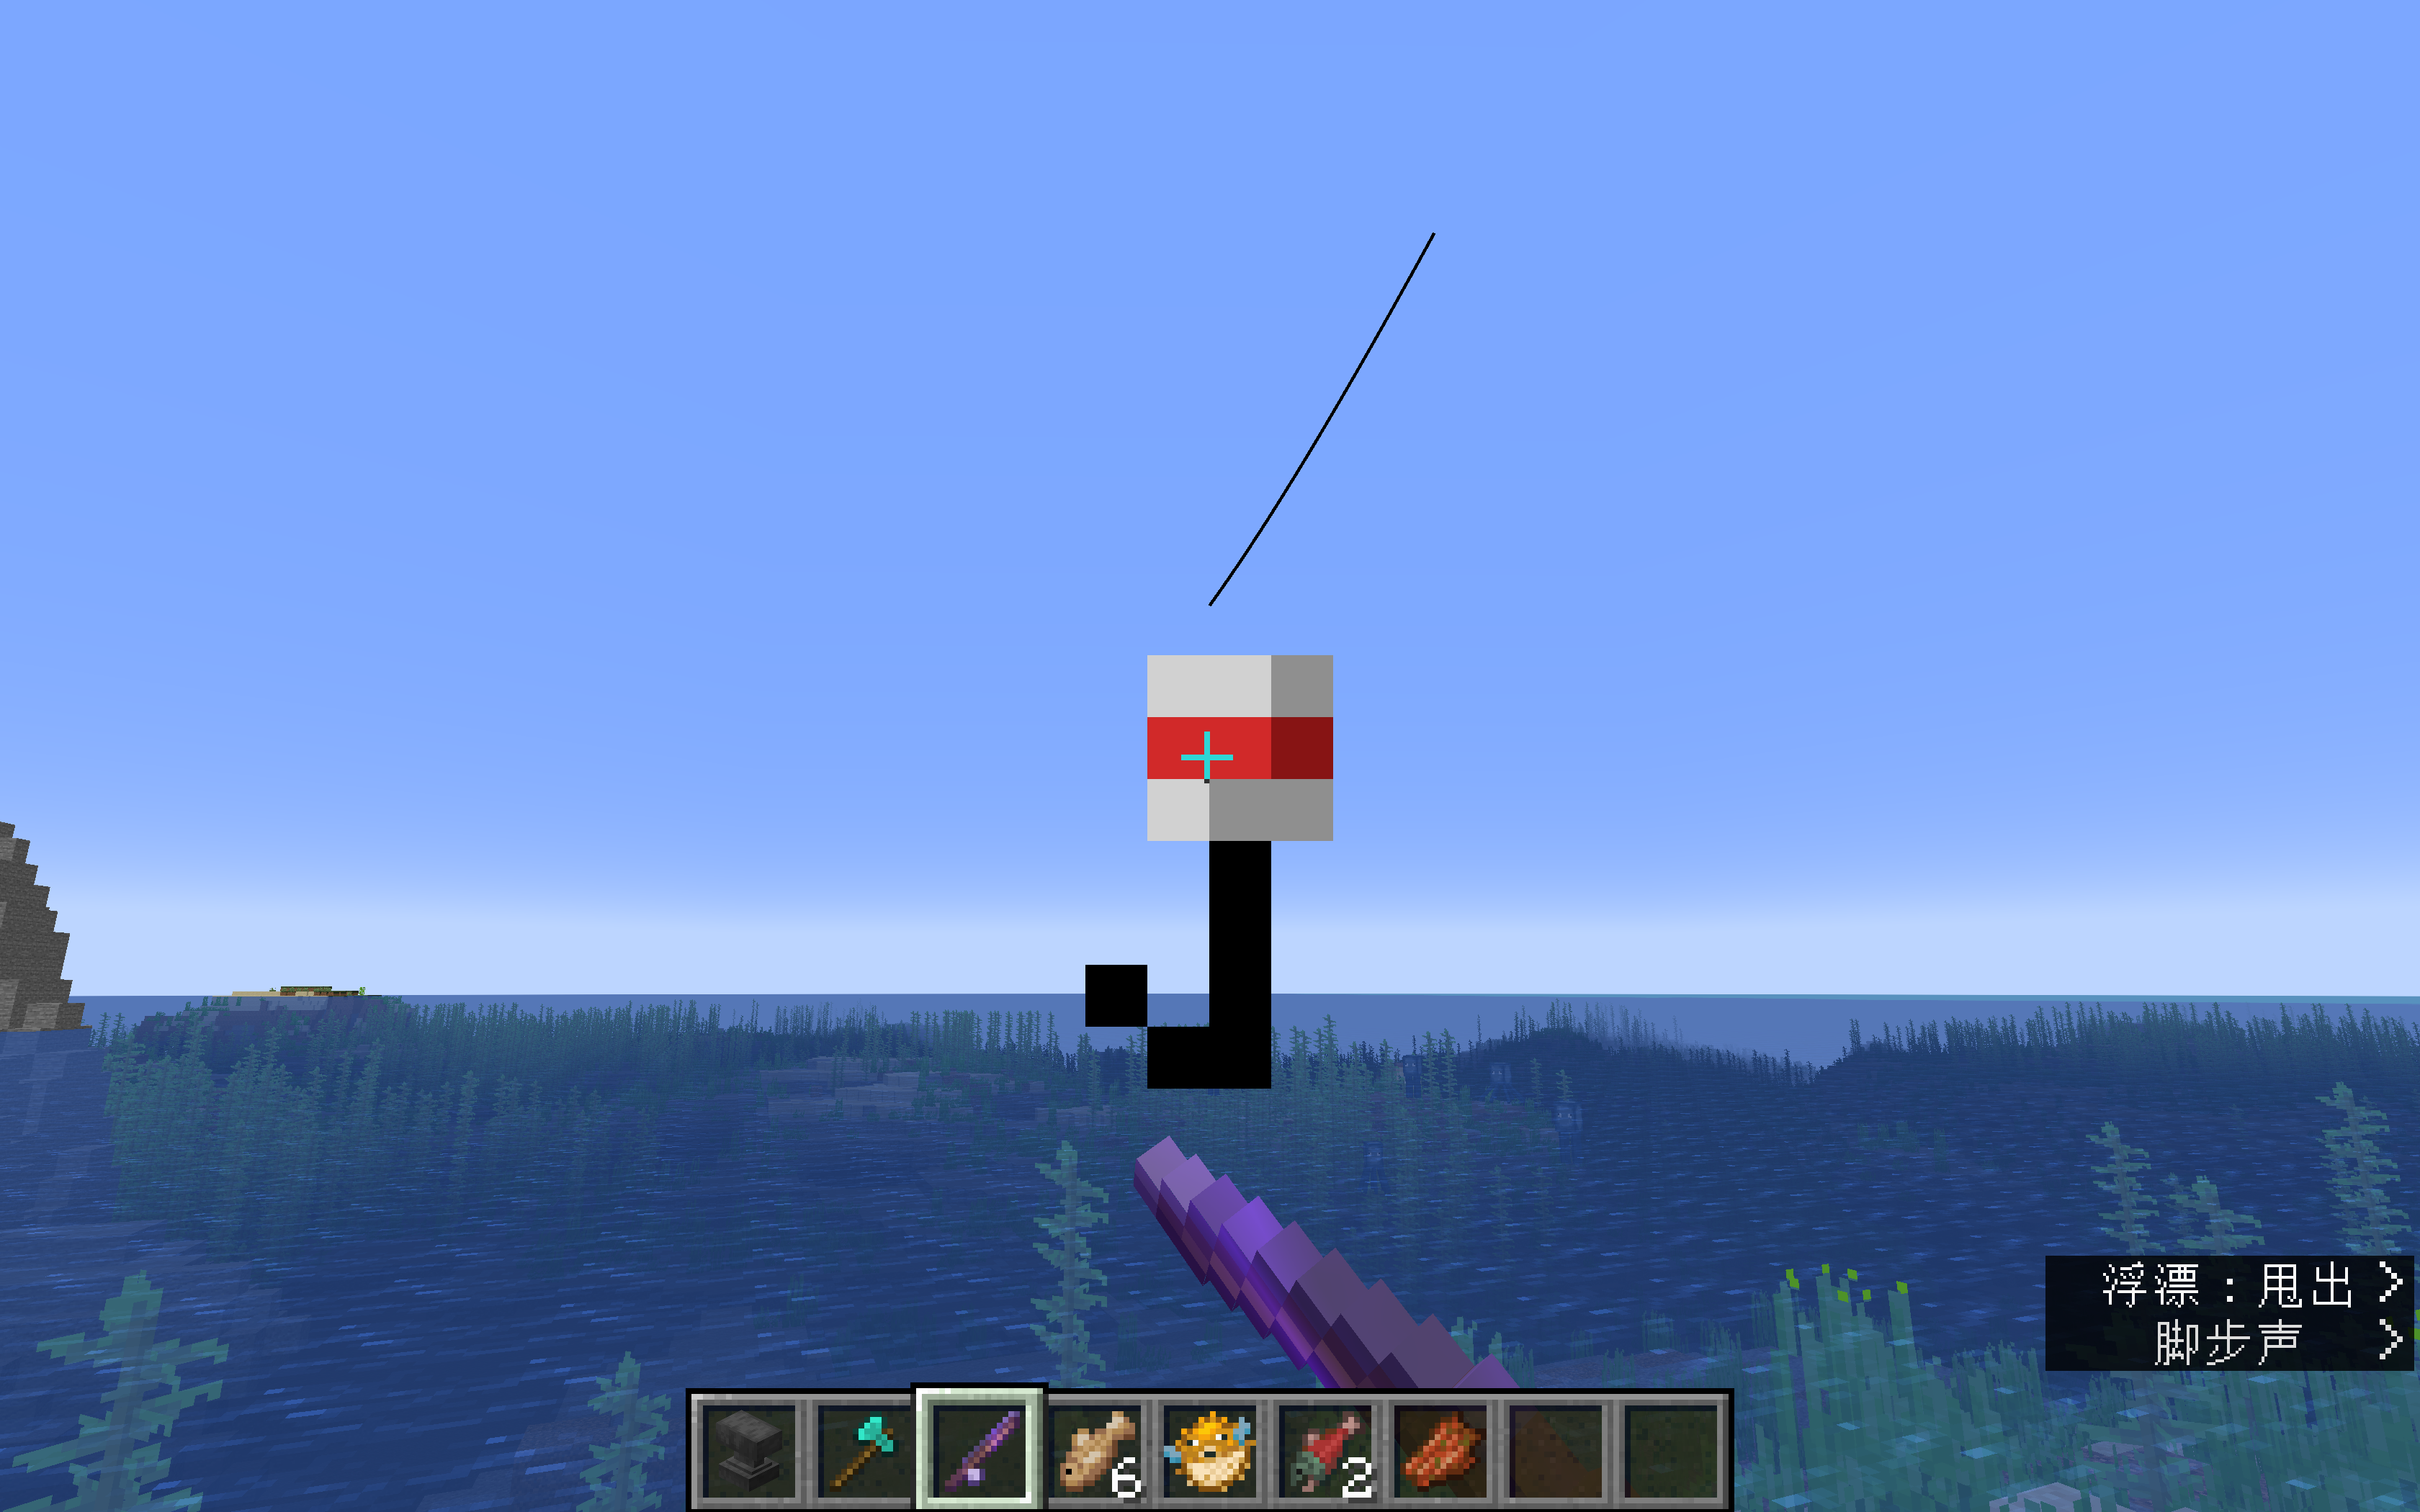inf: (2044, 1254, 2411, 1371)
